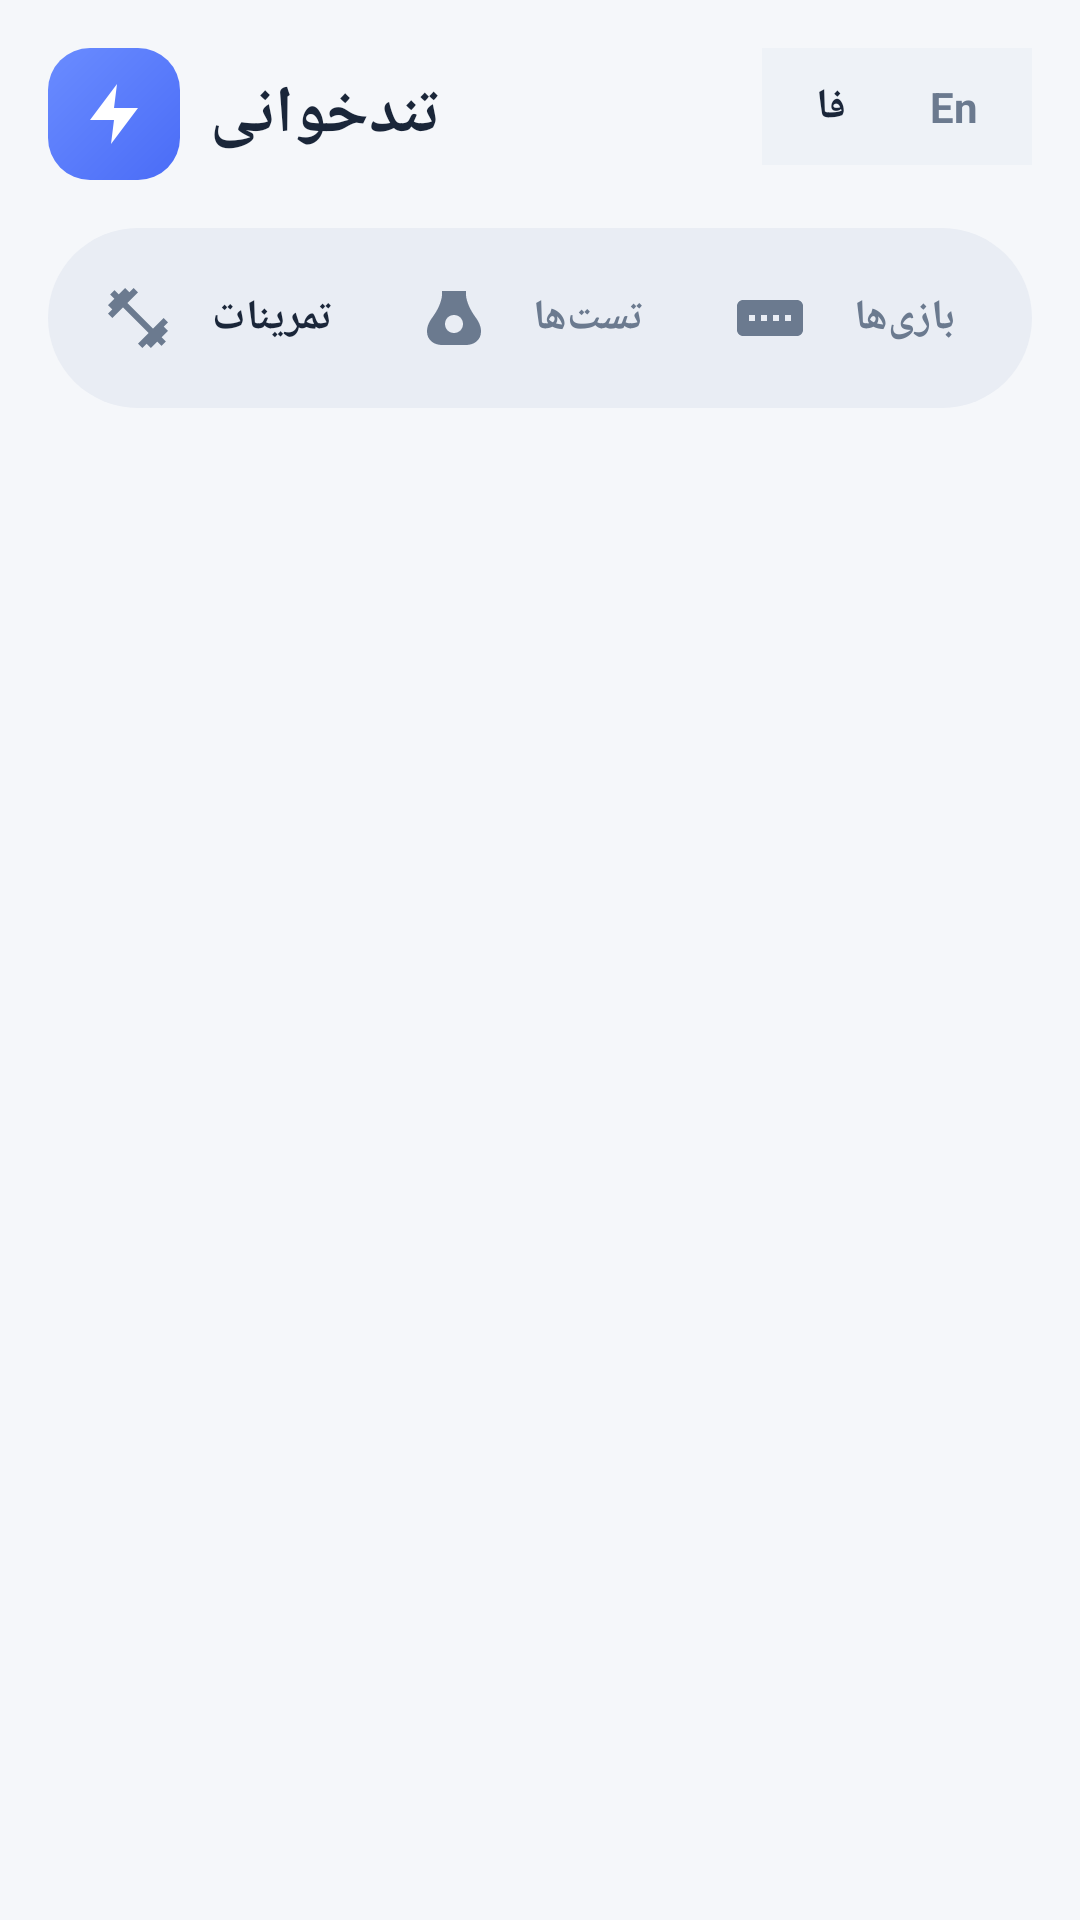

Icon click points for this 1080px x 1920px phone screenshot, format (x,y):
bolt: (114,114)
